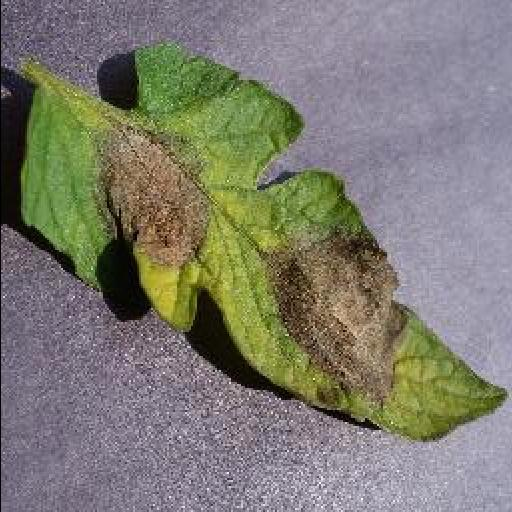disease_tomato: (20, 38, 510, 440)
